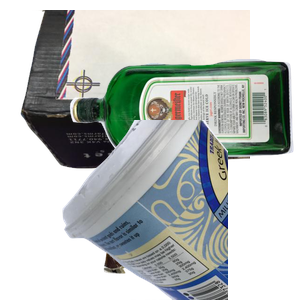cardboard: (18, 10, 258, 171)
glass: (67, 56, 300, 206)
plastic: (60, 120, 300, 300)
trash: (101, 157, 270, 300)
